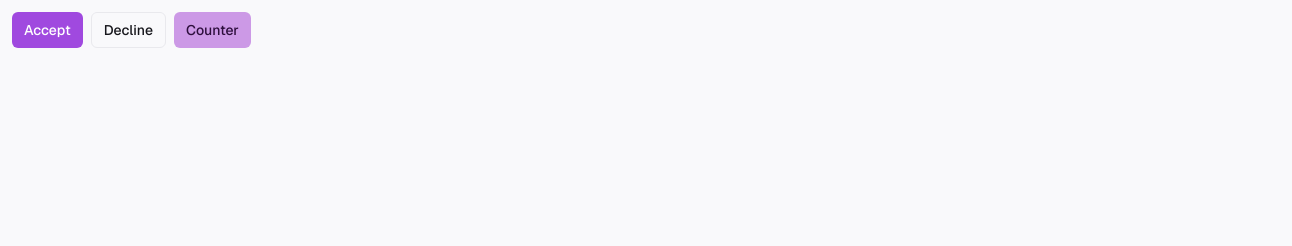
ProposalActions › shows structured action errors and restores controls without navigating
The width and height of the screenshot is (1292, 246).
Click the button "Accept": x=47, y=30 [12,12,83,48]
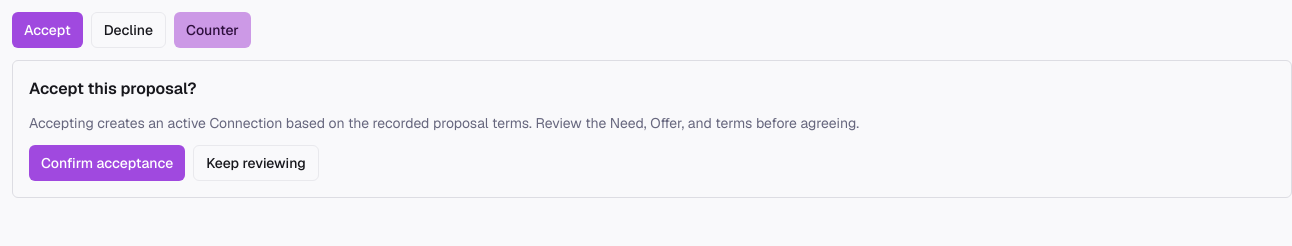
Click the button "Confirm acceptance": x=107, y=163 [29,145,185,181]
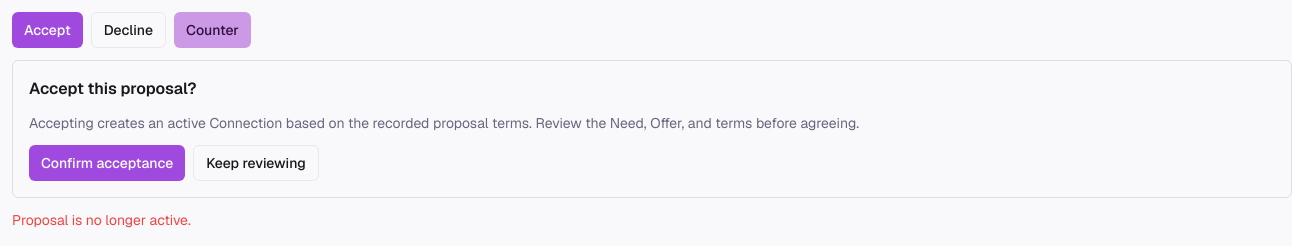
Expected: the button "Accept" is enabled, [12,12,83,48]
Expected: the message reads "Proposal is no longer active.", [12,211,191,229]
